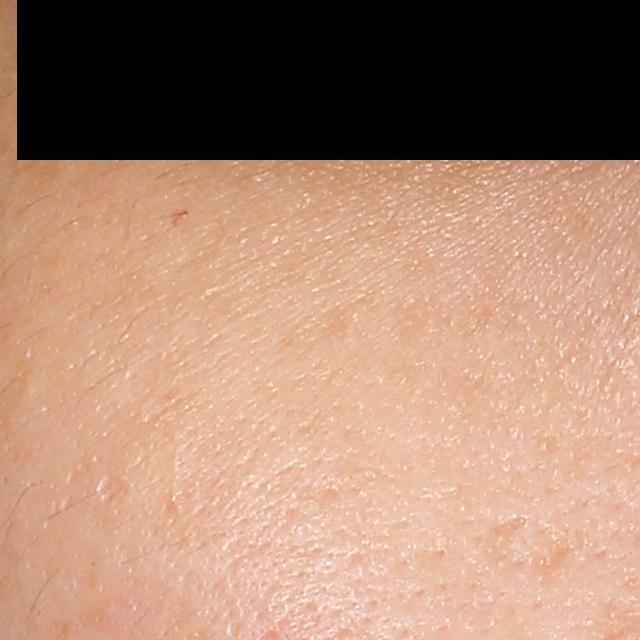atrophic_scar: (480, 513, 525, 549), (94, 470, 124, 505)
